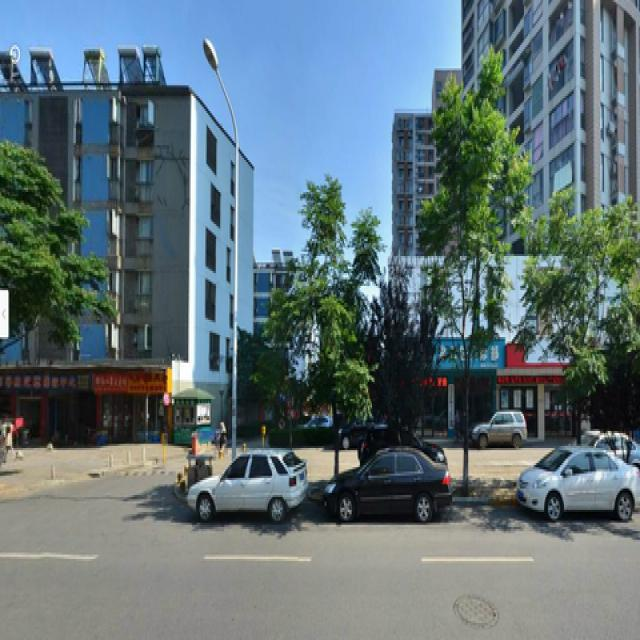koel: (420, 66, 525, 484)
